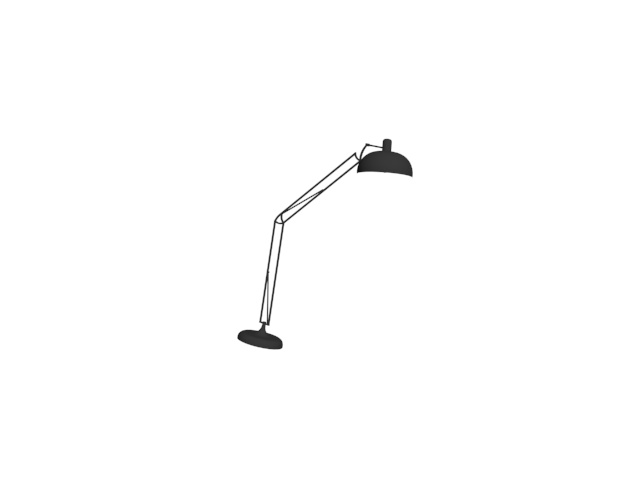desk_lamp: (233, 137, 416, 352)
